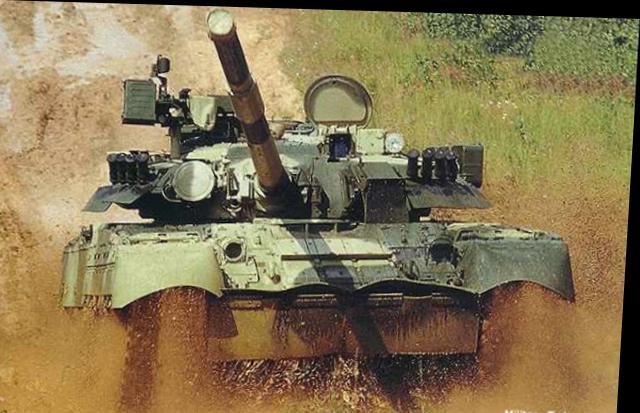tank: (59, 57, 572, 375)
